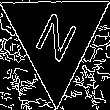N_SW: (29, 5, 82, 69)
